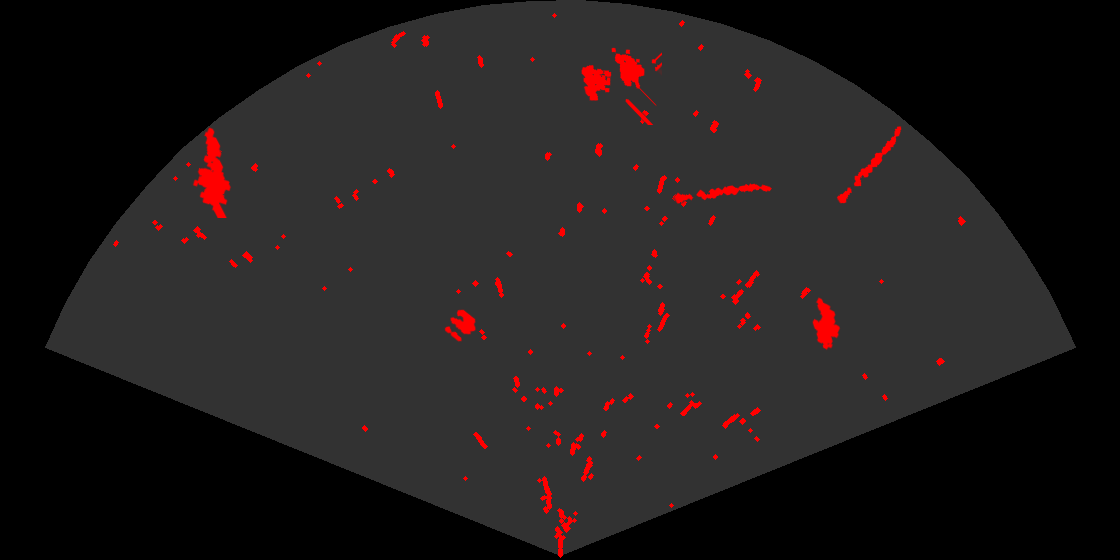AUV: (811, 296, 842, 352)
ball: (443, 308, 478, 343)
cage: (580, 46, 662, 125)
chain: (835, 125, 903, 205), (672, 182, 773, 205)
frogman: (191, 126, 233, 218)
